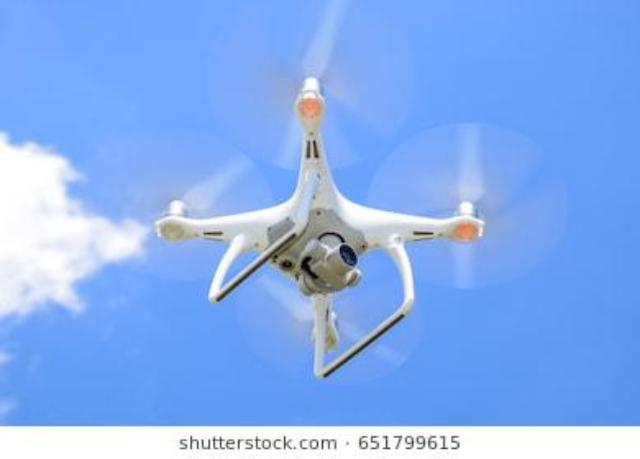drone: (90, 1, 586, 384)
